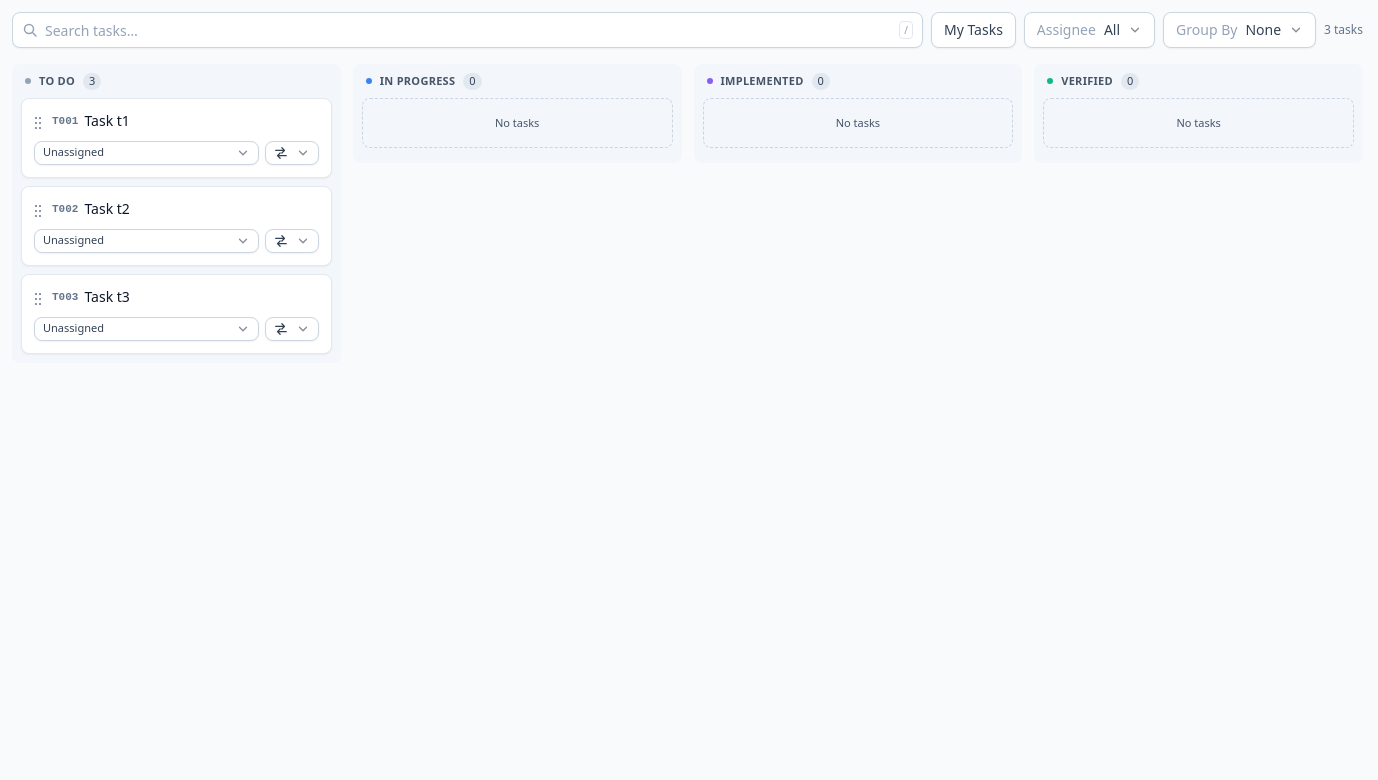
Test: TaskBoard assignment › shows the new assignee immediately and leaves the card where it was
Check: the button "Task t1" is shown, box [84, 110, 319, 130]
Click the dropdown named "Assignee for" at (146, 152), box [34, 140, 259, 164]
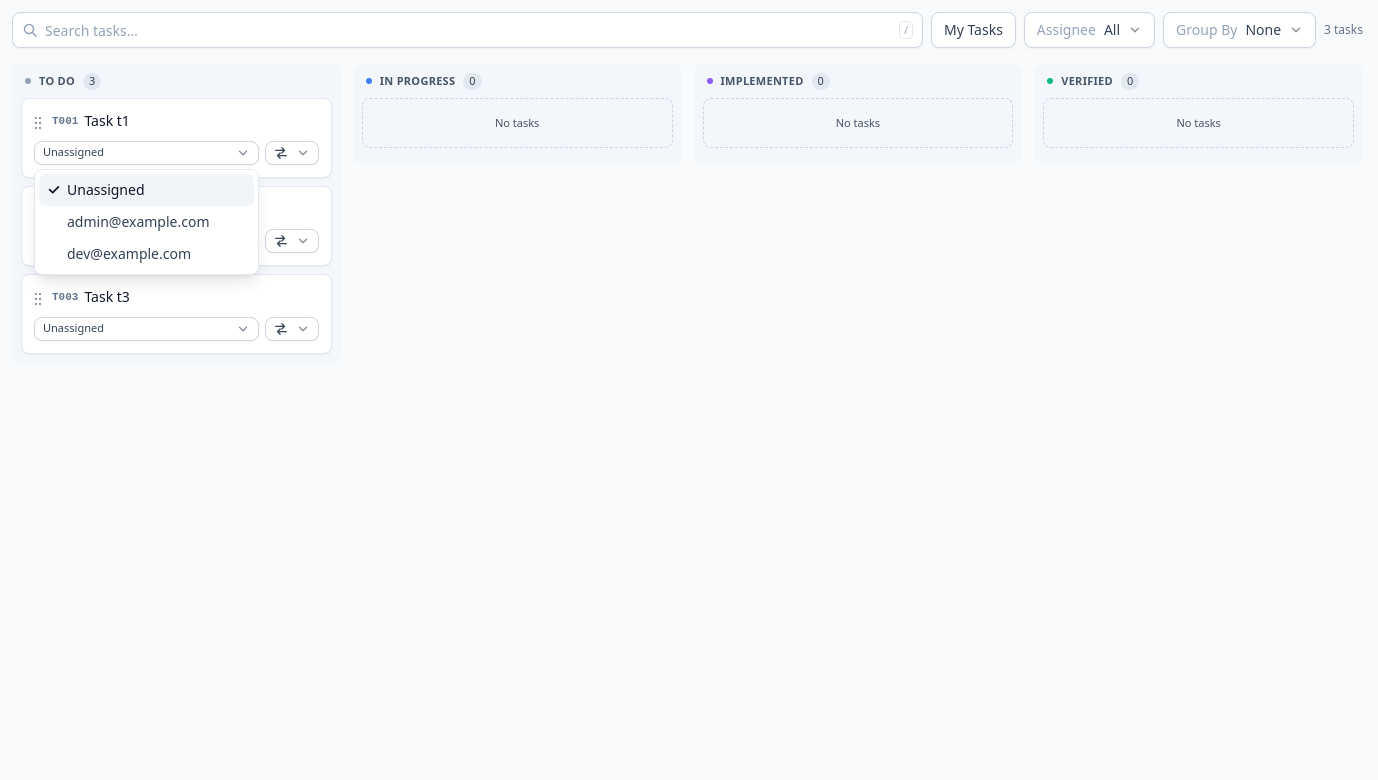
Click the option "dev@example.com" at (129, 254), box [67, 244, 191, 263]
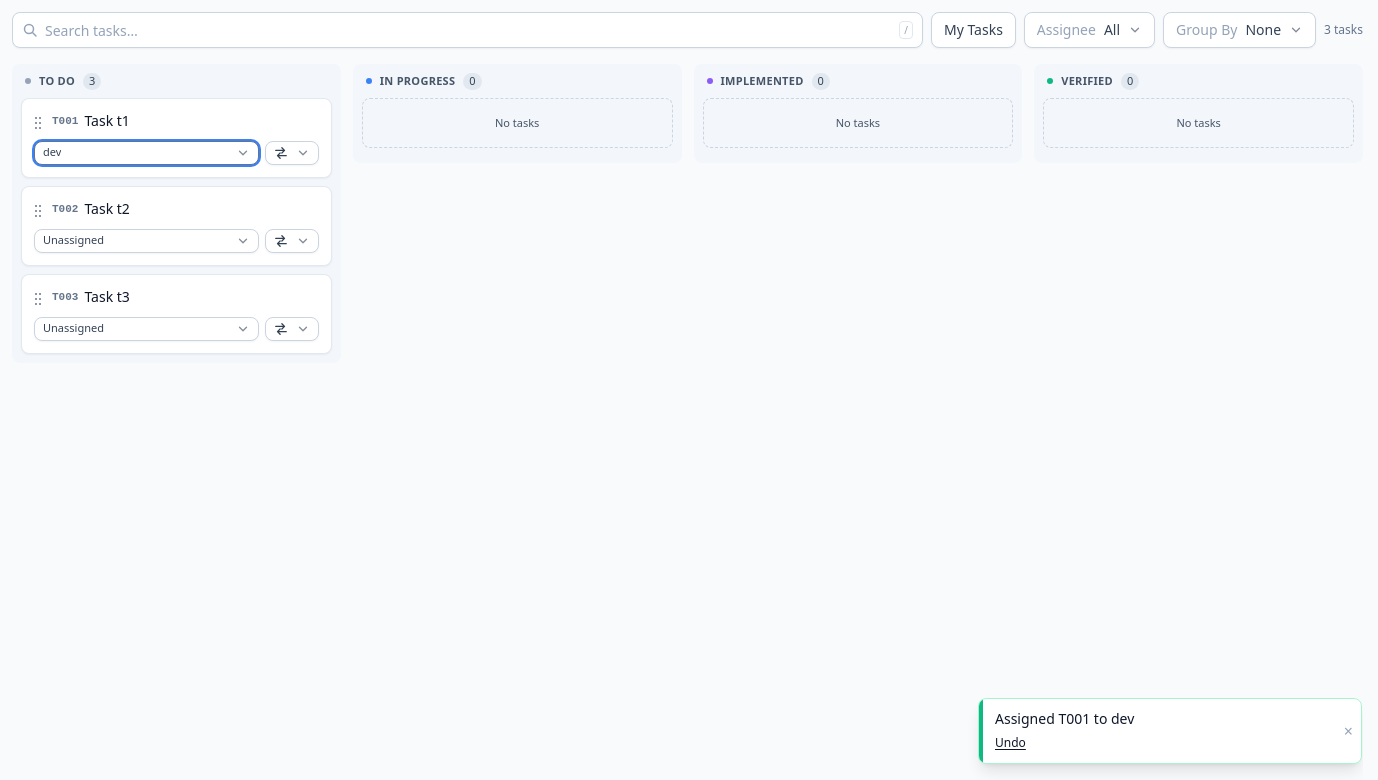
Check: the dropdown named "Assignee for" reads "dev", box [34, 140, 259, 164]
